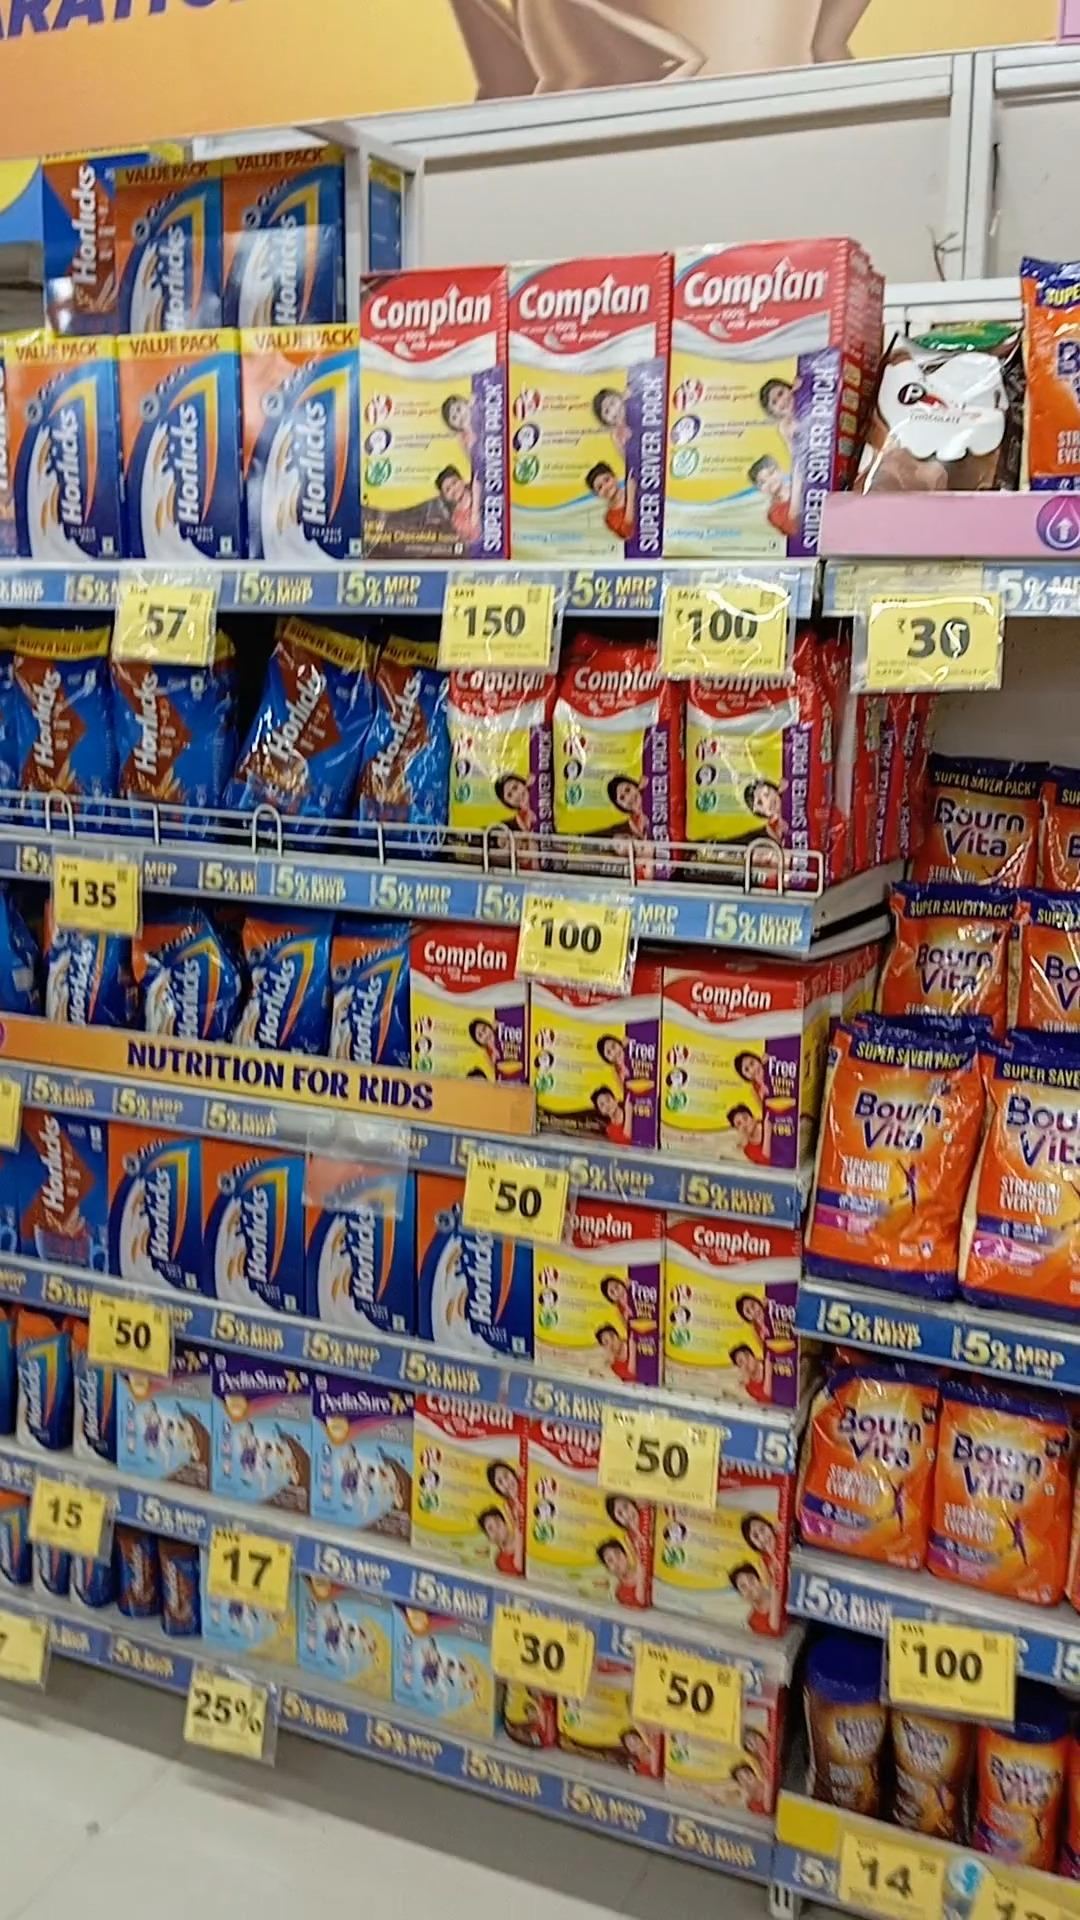BOURN_VITA_1_KG_POUCH: (806, 1023, 959, 1296), (965, 1064, 1080, 1324)
BOURN_VITA_500_G_JAR: (972, 1706, 1054, 1869)
BOURN_VITA_500_G_POUCH: (930, 1387, 1073, 1602), (810, 1350, 927, 1563)
BOURN_VITA_FIVE_STAR_MAGIC_500_G_JAR: (886, 1702, 969, 1847)
COMPLAN_CHOCOLATE_1_KG_PACK: (356, 257, 496, 562)
COMPLAN_CHOCOLATE_500_GMS_PACK: (530, 977, 658, 1156)
COMPLAN_KESAR_BADAM_500_GMS_PACK: (661, 975, 796, 1172), (663, 1216, 800, 1411), (527, 1199, 658, 1379)
COMPLAN_PISTA_BADAM_500_GMS_PACK: (525, 1428, 647, 1605), (415, 1395, 522, 1568)
COMPLAN_RC_POUCH_700_GMS_12: (547, 650, 673, 881), (682, 676, 816, 886), (450, 670, 543, 869)
HORLICK_CHOCOLATE_200_G_JAR: (157, 1538, 202, 1638), (111, 1524, 156, 1622)
HORLICK_CHOCOLATE_750_G_POUCH: (247, 625, 359, 853), (13, 629, 113, 825), (360, 640, 444, 861), (119, 655, 218, 835)
HORLICK_CLASSIC_MALT_200_G_JAR: (16, 1313, 66, 1457), (70, 1315, 113, 1460)
HORLICK_CLASSIC_MALT_500_G_PACK: (421, 1179, 525, 1366), (307, 1167, 415, 1333), (203, 1138, 302, 1313), (104, 1122, 195, 1295), (327, 916, 414, 1067), (133, 911, 228, 1040), (236, 913, 320, 1052), (38, 918, 128, 1026)
